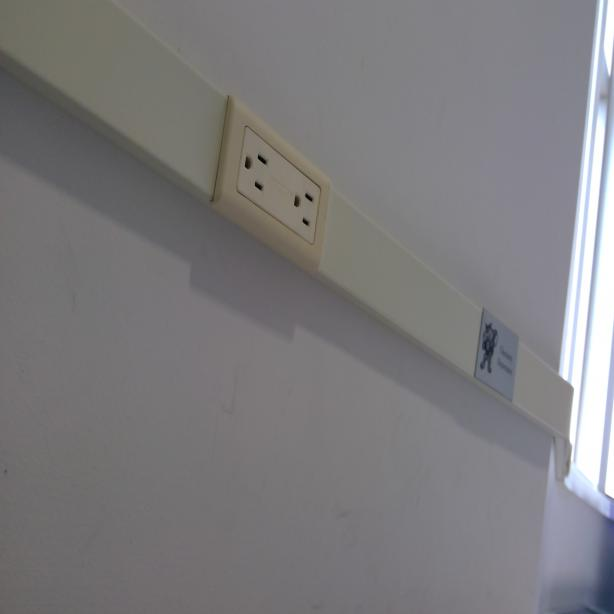typeb: (239, 134, 276, 201), (288, 172, 323, 235)
